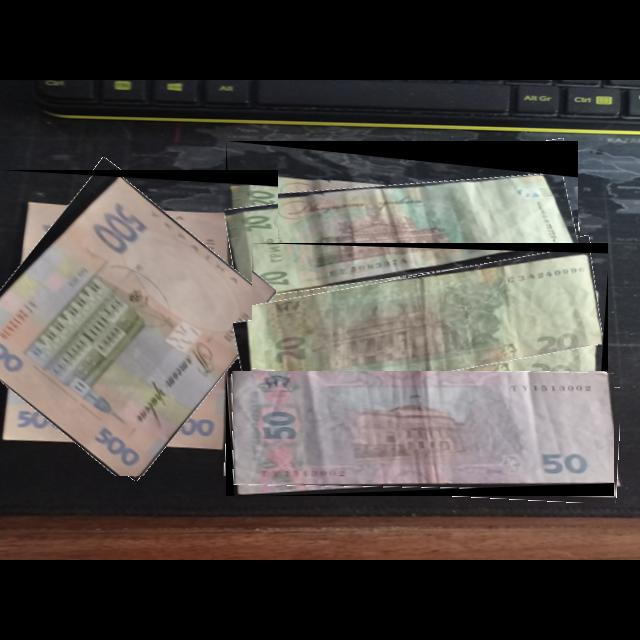20uah: (252, 251, 605, 407), (230, 167, 579, 299)
500uah: (0, 176, 277, 478)
50uah: (233, 372, 615, 487)
